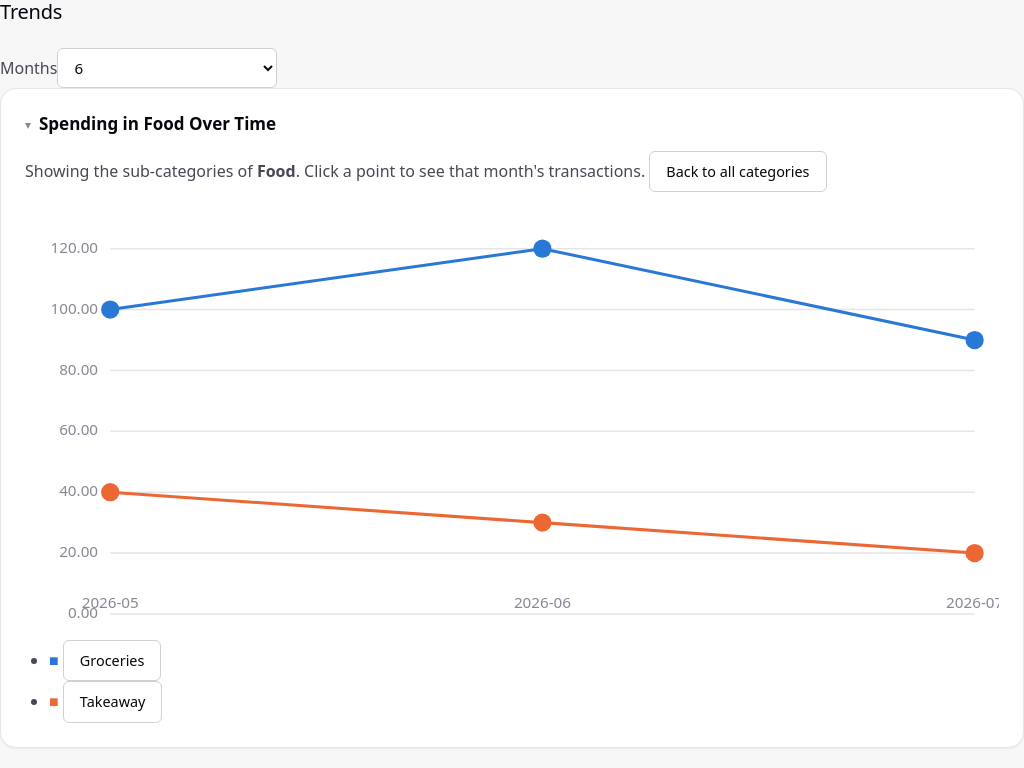
Test case: TrendsPage drill-down › drops the drilled-in group when the window changes
Check: the button "▾ Spending in Food Over Time" is shown, box [25,113,999,135]
Select "12" in the dropdown labelled "Months". click: (167,68)
box: [57,48,277,88]
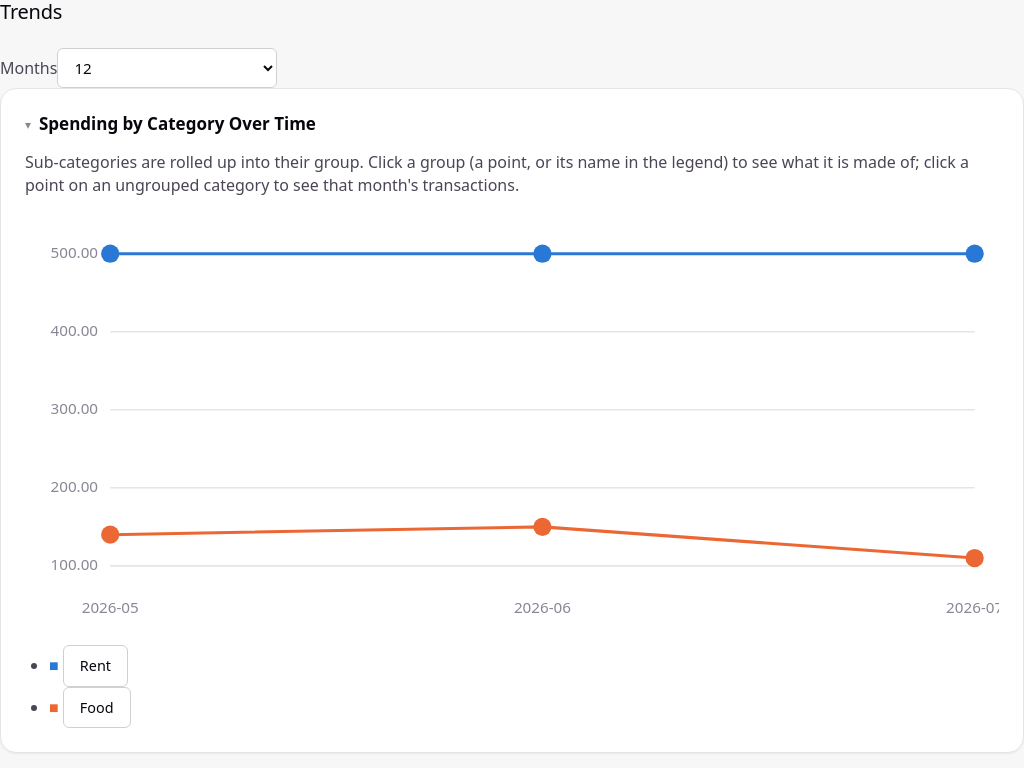
Check: the button "▾ Spending by Category Over Time" is shown, box [25,113,999,135]
